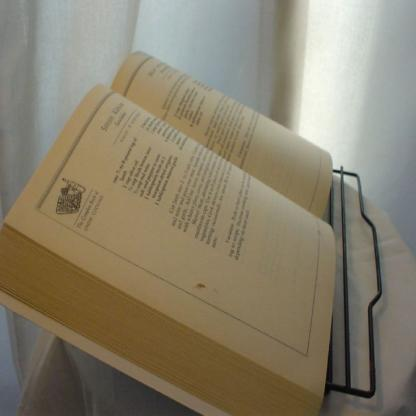book: (0, 39, 334, 415)
